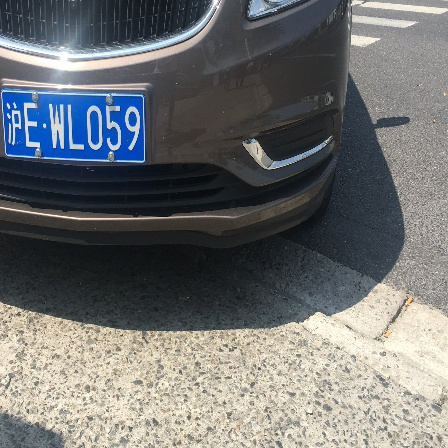plate: (4, 88, 149, 168)
